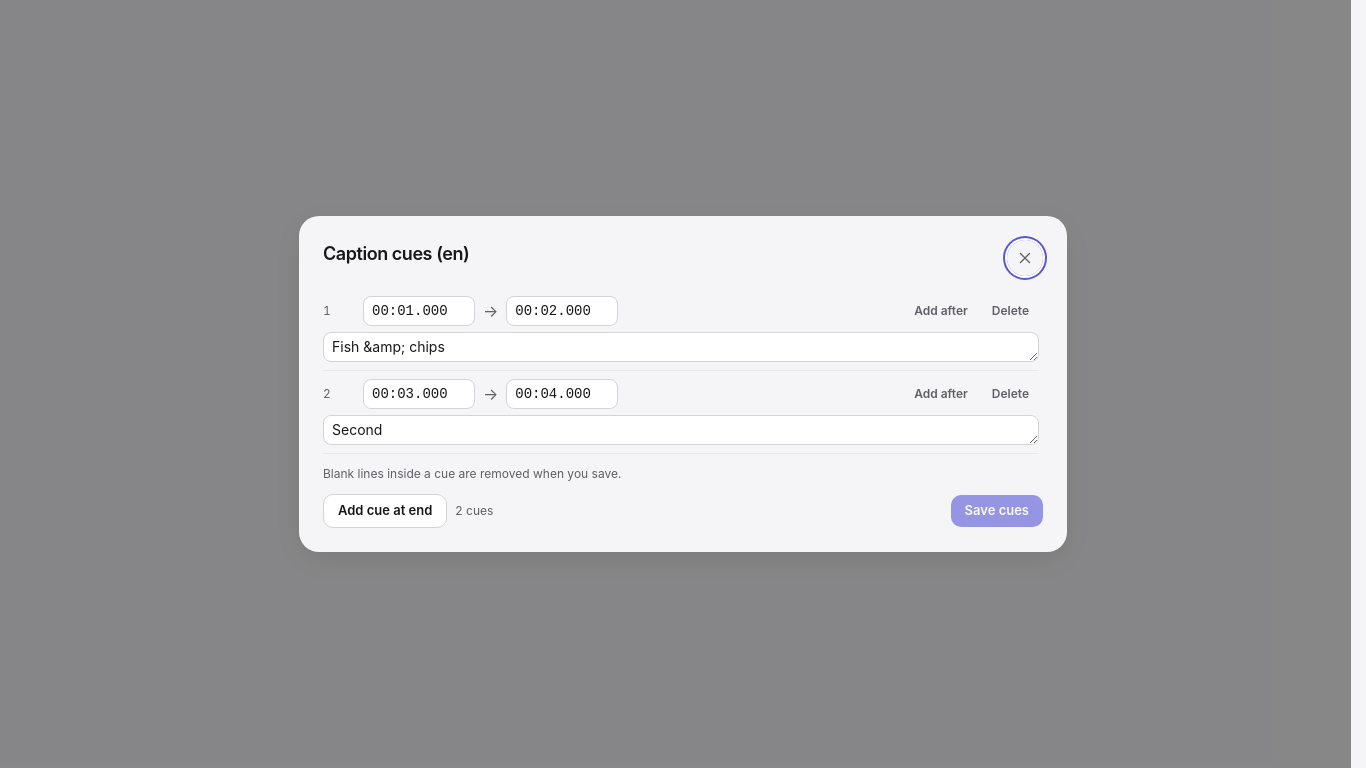
CaptionCueEditor › surfaces a save failure and stays open
Step 1. Replace the text in the text box named "Cue 2 text" with "x" → (681, 430), box [323,415,1039,445]
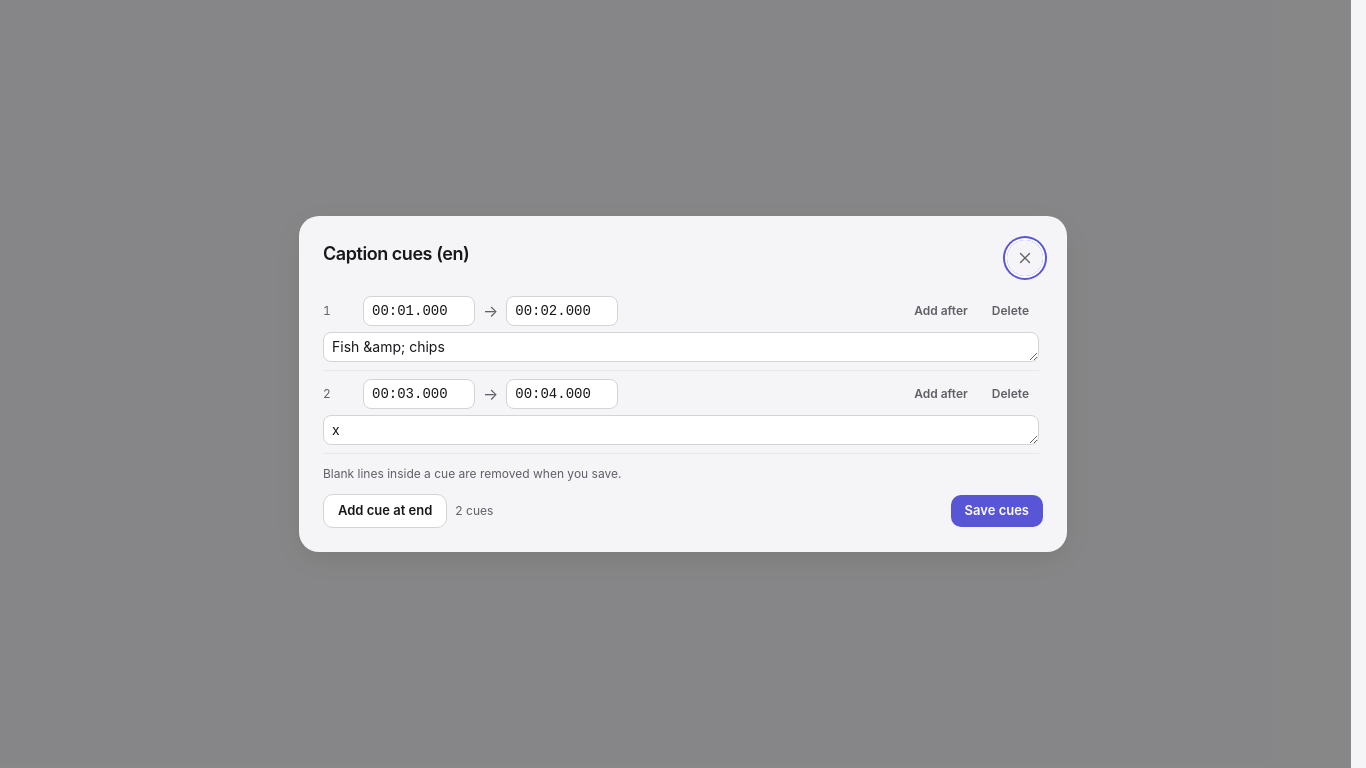
Step 2. Click the button "Save cues" → (997, 511), box [951,495,1043,527]
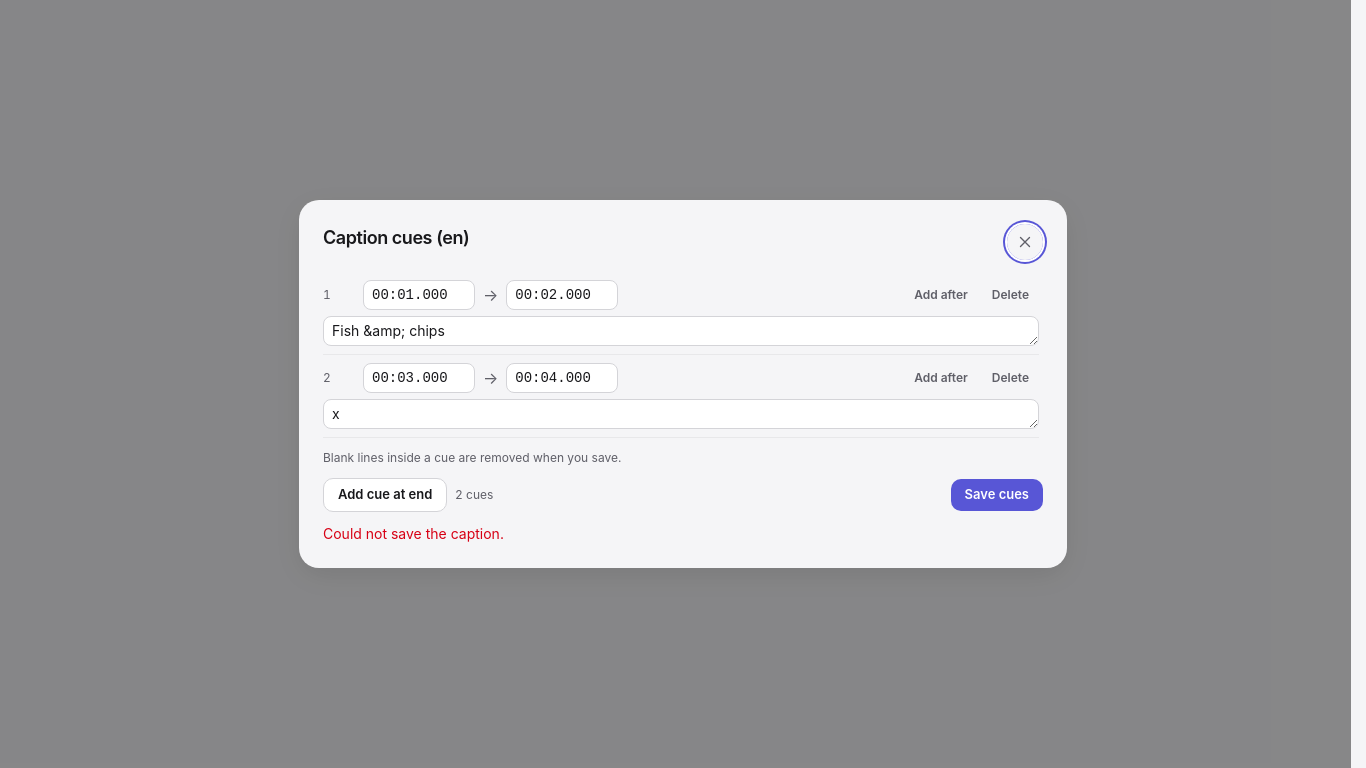
Now the text "Could not save the caption." is shown, box [323,525,504,542]
